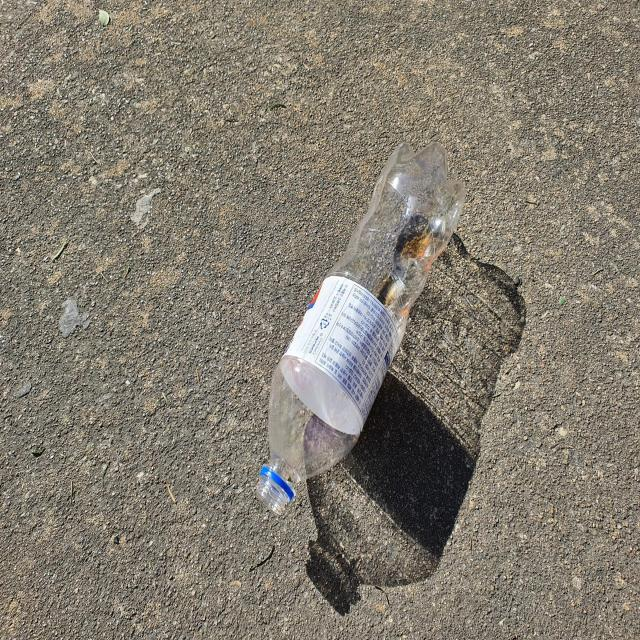plastic: (257, 143, 465, 513)
